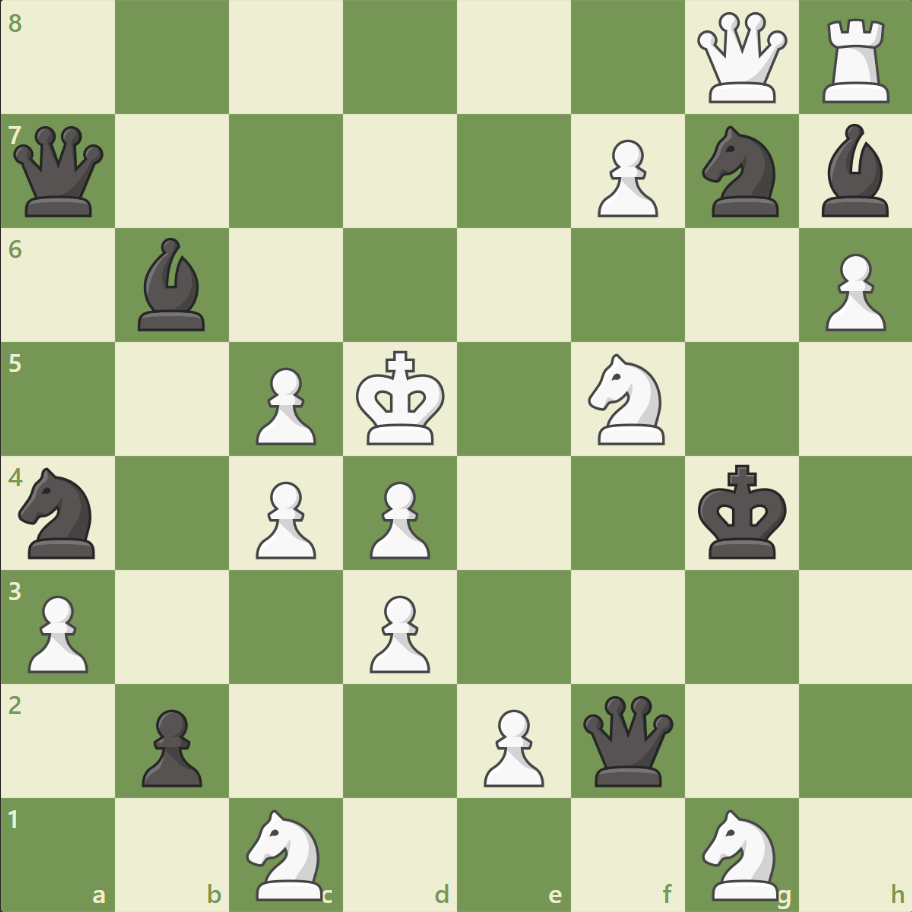K: (351, 344, 451, 452)
N: (579, 348, 676, 450), (238, 802, 335, 904), (692, 802, 789, 904)
P: (247, 359, 322, 450), (247, 473, 322, 564), (20, 586, 95, 677), (474, 700, 549, 791), (588, 132, 662, 223), (815, 246, 889, 337), (361, 473, 435, 564), (361, 586, 435, 677)
Q: (691, 9, 790, 108)
R: (814, 12, 897, 109)
b: (131, 233, 215, 336), (812, 120, 896, 222)
k: (692, 458, 792, 566)
n: (11, 461, 108, 564), (692, 121, 789, 223)
p: (133, 700, 208, 791)
q: (10, 122, 109, 222), (578, 690, 677, 789)
